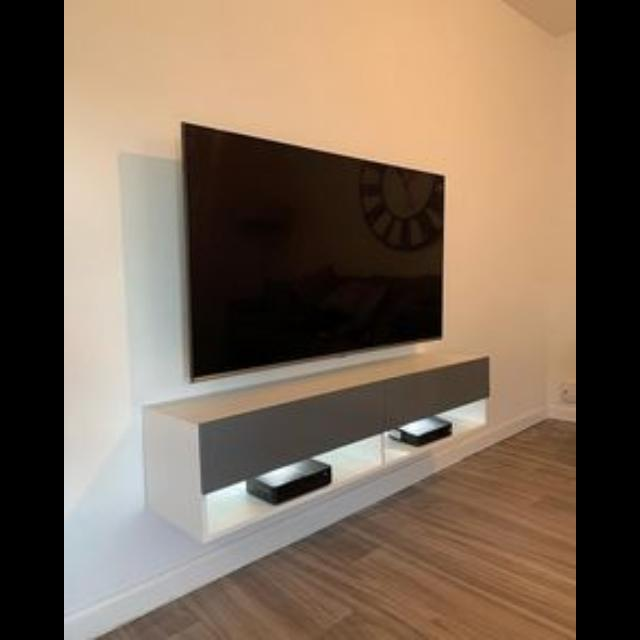Flat-Panel-TV: (161, 90, 465, 372)
